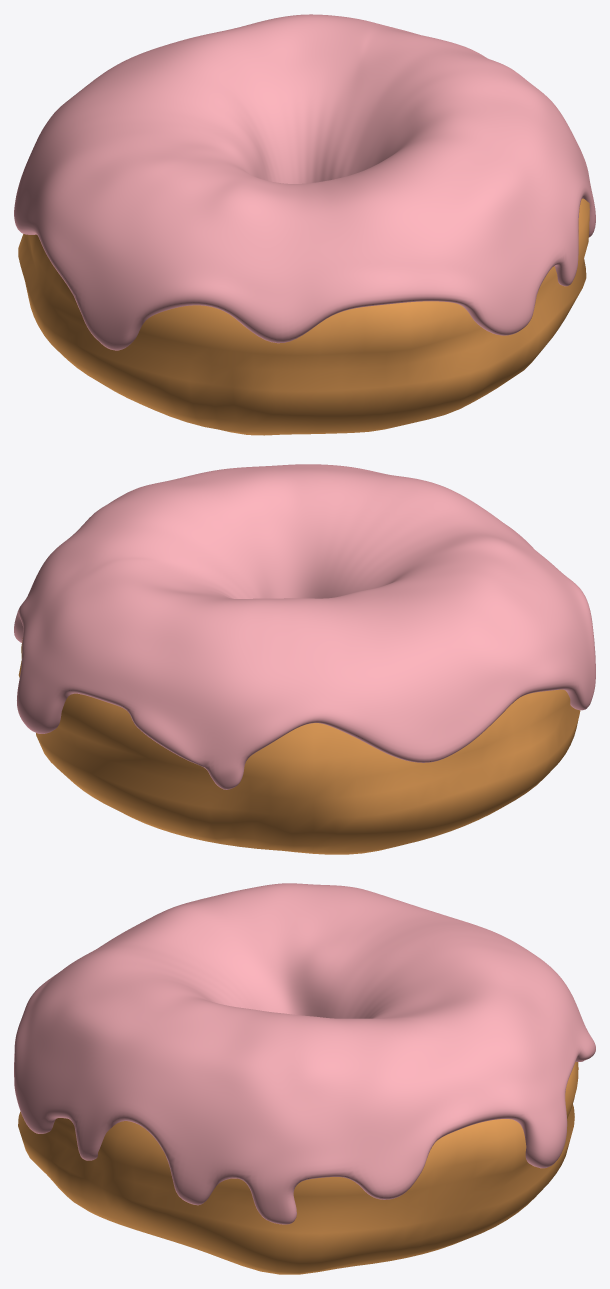
File: Donut.fbx
The picture shows the model from 3 angles, top to bottom: view 1: azimuth 30°, elevation 25°; view 2: azimuth 150°, elevation 25°; view 3: azimuth 270°, elevation 25°; orthographic projection. The views are drawn at different scales.
Parts seen in each view (by area): view 1: Icing, Torus; view 2: Icing, Torus; view 3: Icing, Torus.
Part boxes in pixels (x1=…): Icing: x1=14, y1=14, x2=595, y2=350; Torus: x1=18, y1=198, x2=589, y2=435; Icing: x1=14, y1=464, x2=595, y2=789; Torus: x1=18, y1=638, x2=580, y2=854; Icing: x1=14, y1=883, x2=595, y2=1224; Torus: x1=18, y1=1061, x2=578, y2=1274.
Bounding box in the file's own units: 10.32 × 4.8 × 10.39.
